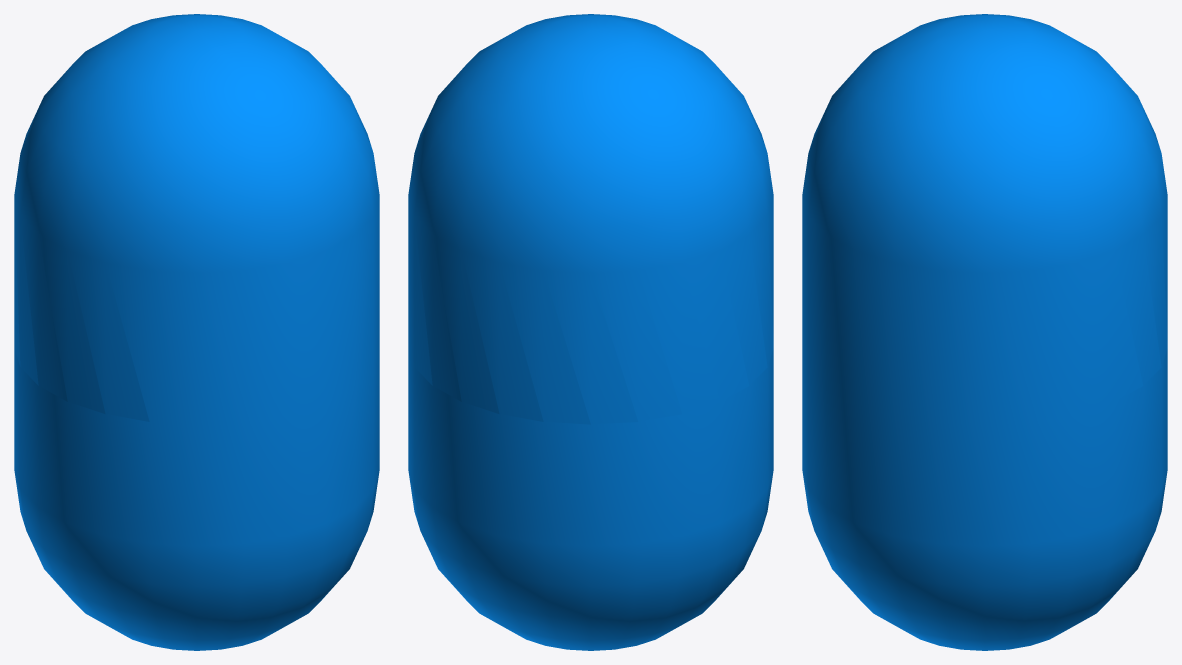
3 views of the same model, side by side, from view 1: azimuth 30°, elevation 25°; view 2: azimuth 150°, elevation 25°; view 3: azimuth 270°, elevation 25° (orthographic).
Visible parts, largest first — view 1: capsule_skin; view 2: capsule_skin; view 3: capsule_skin.
Boxes of the visible parts, box(x1,y1,x2,y2) form: capsule_skin: box(14, 14, 379, 650); capsule_skin: box(408, 14, 773, 650); capsule_skin: box(802, 14, 1167, 650).
Bounding box in the file's own units: 0.011 × 0.02 × 0.011.
